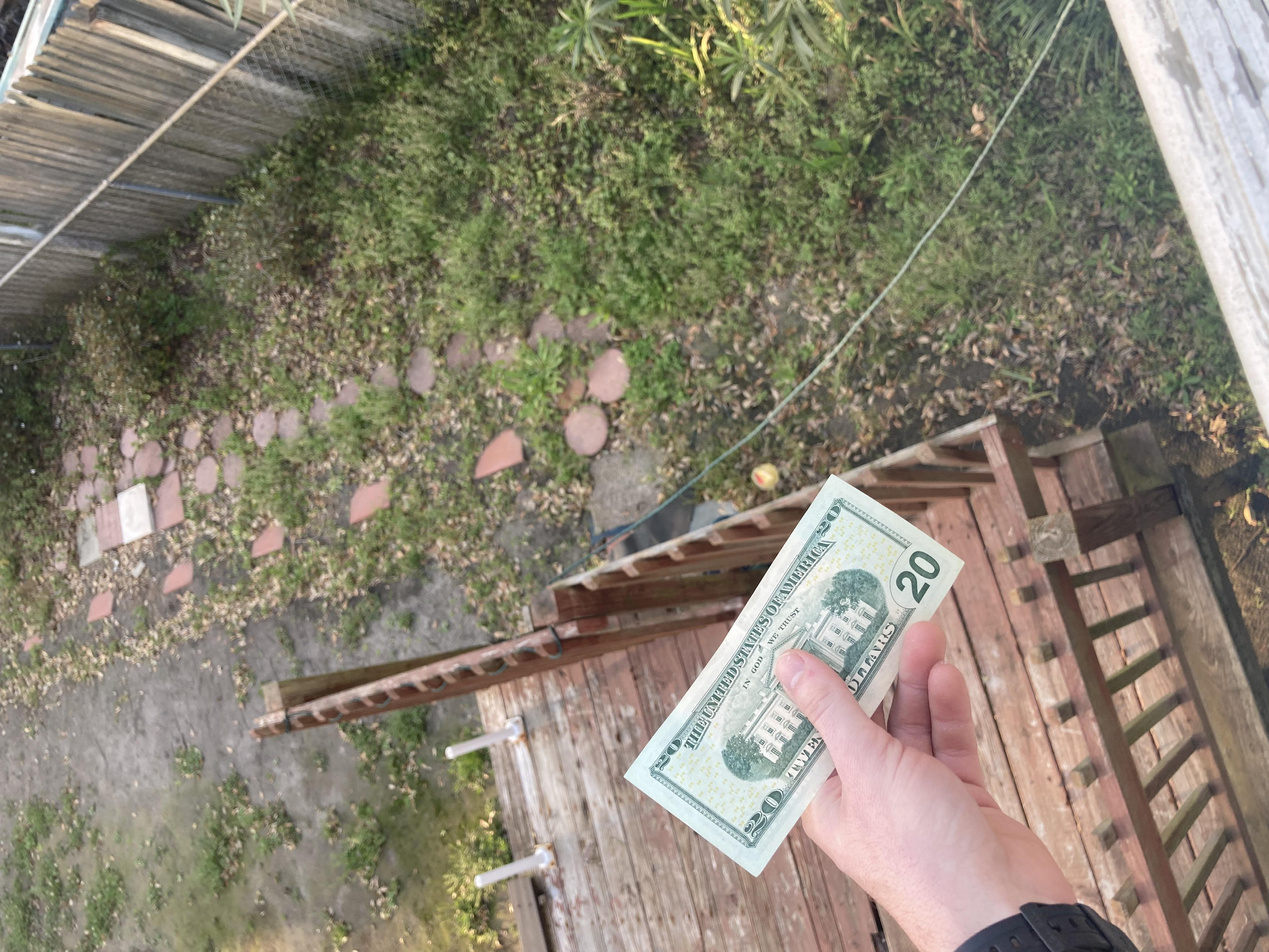twenty-back: (99, 468, 640, 724)
